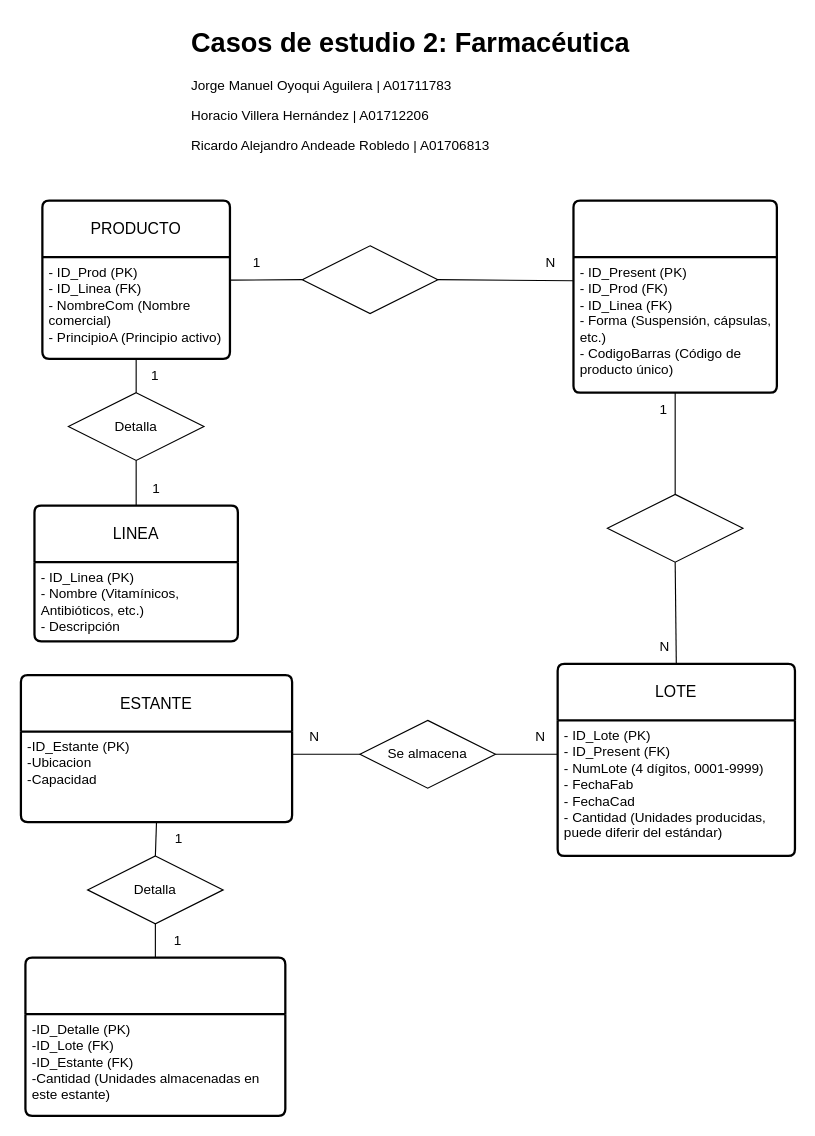
Some shapes in this 815 by 1136 pixel diagram are drawn without their labels. The shapes that lost their labels are listed below. From the top down, each one's box as (x1, y1, x2, y2) in pixels, then its label:
(301, 245, 438, 314): Posee
(572, 199, 777, 393): PRESENTACION
(606, 493, 743, 562): Pertenece
(24, 956, 286, 1116): DETALLE_ESTANTE
